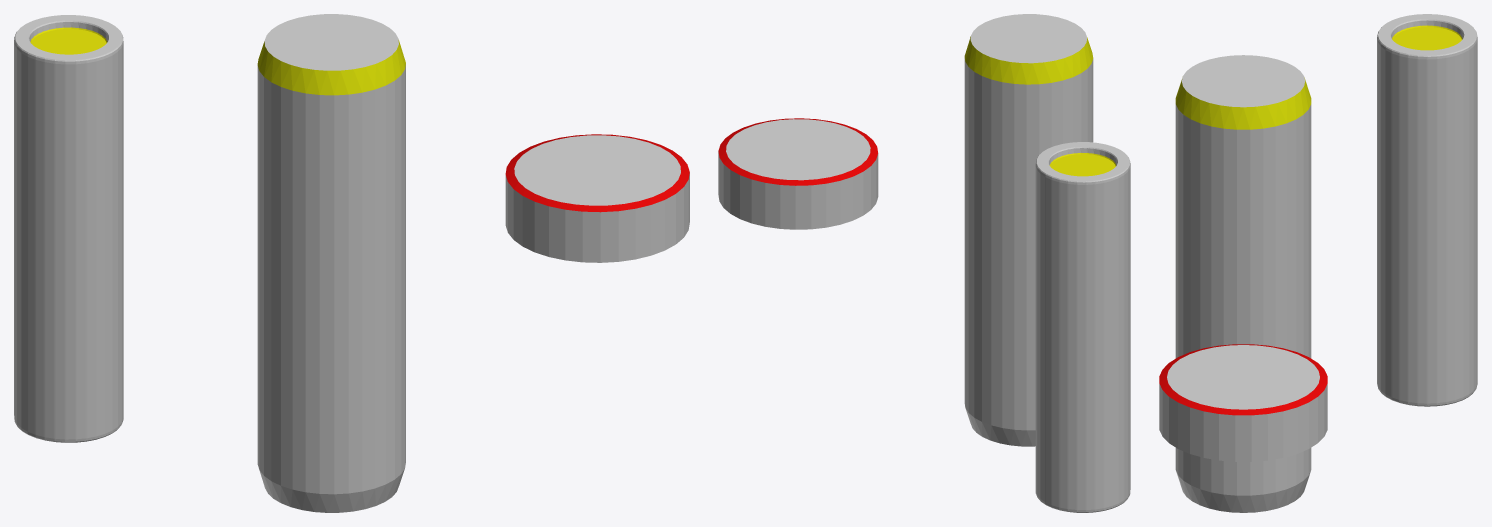
File: Platform.fbx
3 renders of one model, left to right at view 1: azimuth 30°, elevation 25°; view 2: azimuth 150°, elevation 25°; view 3: azimuth 270°, elevation 25°, orthographic. The views are drawn at different scales.
Parts seen in each view (by area): view 1: Cylinder.001, Cylinder.002, Cylinder; view 2: Cylinder.001, Cylinder.002, Cylinder; view 3: Cylinder.001, Cylinder.002, Cylinder.
Boxes of the visible parts, x1=… form: Cylinder.001: x1=257, y1=14, x2=405, y2=512; Cylinder.002: x1=14, y1=15, x2=123, y2=442; Cylinder: x1=505, y1=134, x2=689, y2=262; Cylinder.001: x1=964, y1=14, x2=1093, y2=446; Cylinder.002: x1=1035, y1=142, x2=1130, y2=512; Cylinder: x1=718, y1=118, x2=878, y2=229; Cylinder.001: x1=1175, y1=55, x2=1311, y2=512; Cylinder.002: x1=1377, y1=14, x2=1477, y2=406; Cylinder: x1=1159, y1=344, x2=1327, y2=461.
Size of the model in its own units: 175 by 133 by 94.73.
